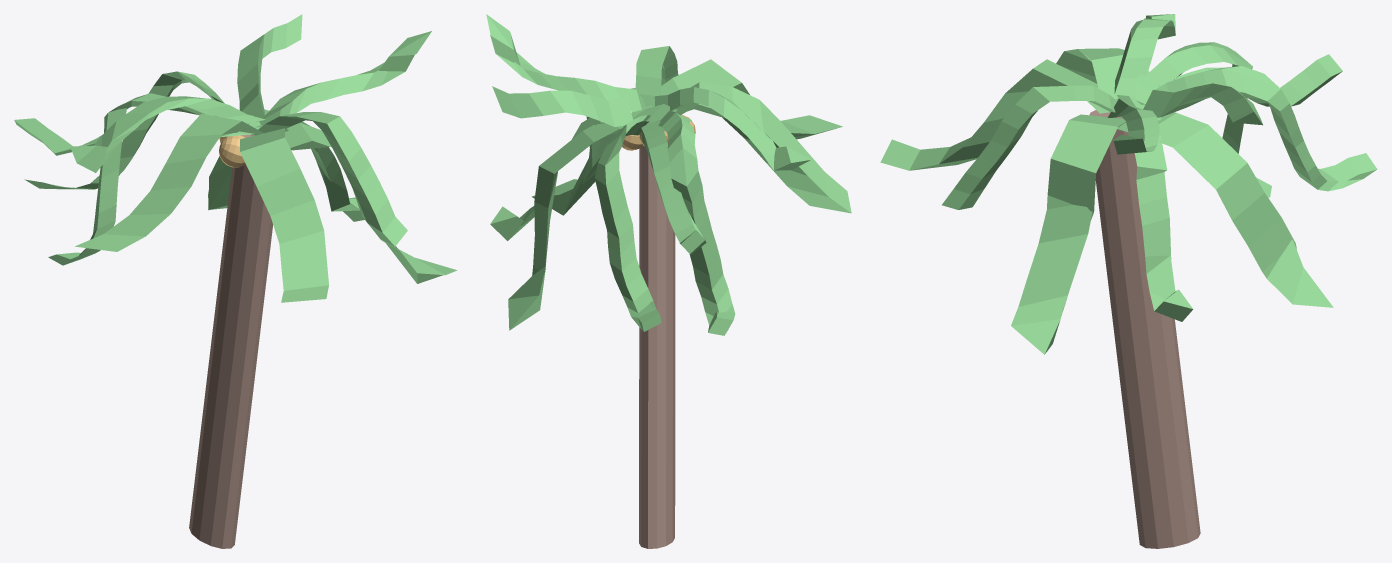
File: tree.glb
3 views of the same model, side by side, from view 1: azimuth 30°, elevation 25°; view 2: azimuth 150°, elevation 25°; view 3: azimuth 270°, elevation 25° (orthographic). The views are drawn at different scales.
Parts seen in each view (by area): view 1: group355623538, group1041637316, group34800269, group311692419, group688583858, group697093927, group526812730, group1340146973, group1319917614, group1995046267, group250421346, group1268797991 (+2 smaller); view 2: group355623538, group526812730, group1319917614, group34800269, group204855513, group1340146973, group697093927, group688583858, group1268797991, group1041637316, group311692419, group1995046267 (+1 smaller); view 3: group355623538, group1995046267, group204855513, group1319917614, group250421346, group311692419, group1041637316, group526812730, group697093927, group1340146973, group34800269, group688583858 (+1 smaller).
Part boxes in pixels (x1,y1,x2,y2): group355623538: (189, 134, 272, 548); group1041637316: (240, 128, 328, 302); group34800269: (74, 113, 263, 251); group311692419: (251, 112, 407, 246); group688583858: (259, 31, 431, 125); group697093927: (70, 96, 265, 172); group526812730: (48, 93, 217, 265); group1340146973: (237, 14, 302, 117); group1319917614: (24, 71, 224, 189); group1995046267: (285, 123, 457, 283); group250421346: (300, 121, 364, 221); group1268797991: (14, 107, 197, 155); group355623538: (639, 144, 675, 548); group526812730: (658, 110, 735, 335); group1319917614: (594, 115, 661, 331); group34800269: (676, 82, 851, 213); group204855513: (508, 123, 623, 330); group1340146973: (492, 86, 633, 126); group697093927: (654, 87, 810, 170); group688583858: (486, 14, 645, 111); group1268797991: (641, 120, 706, 254); group1041637316: (661, 59, 842, 139); group311692419: (635, 46, 678, 107); group1995046267: (532, 88, 635, 215); group355623538: (1089, 110, 1200, 548); group1995046267: (1011, 114, 1125, 354); group204855513: (1117, 112, 1333, 307); group1319917614: (1151, 66, 1377, 191); group250421346: (1134, 130, 1193, 321); group311692419: (942, 85, 1122, 209); group1041637316: (880, 59, 1109, 170); group526812730: (1145, 42, 1271, 197); group697093927: (1114, 14, 1175, 96); group1340146973: (1143, 83, 1262, 125); group34800269: (1056, 48, 1124, 99); group688583858: (1107, 98, 1159, 154).
Bounding box in the file's own units: 1 × 1.25 × 1.1.
